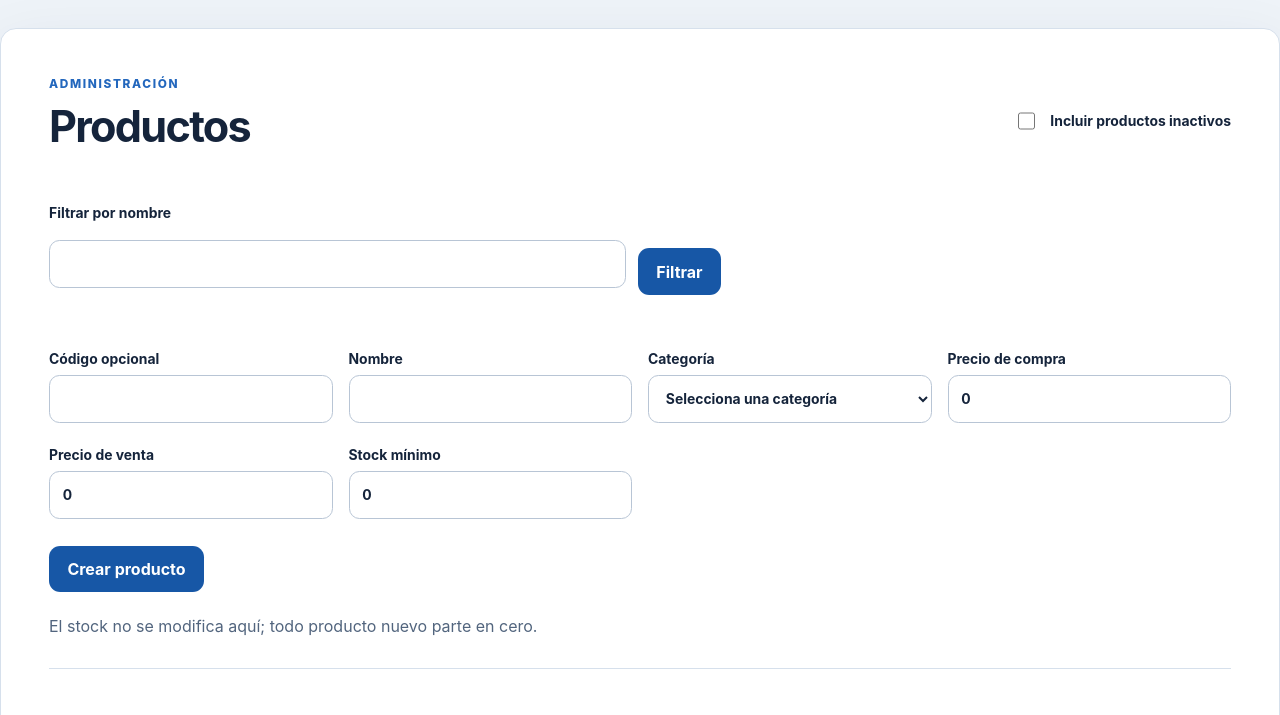
ProductAdmin › filters, includes inactive products and reports request failures
Type "café" into the field labelled "Filtrar por nombre". click: [338, 264]
box: left=49, top=240, right=626, bottom=288
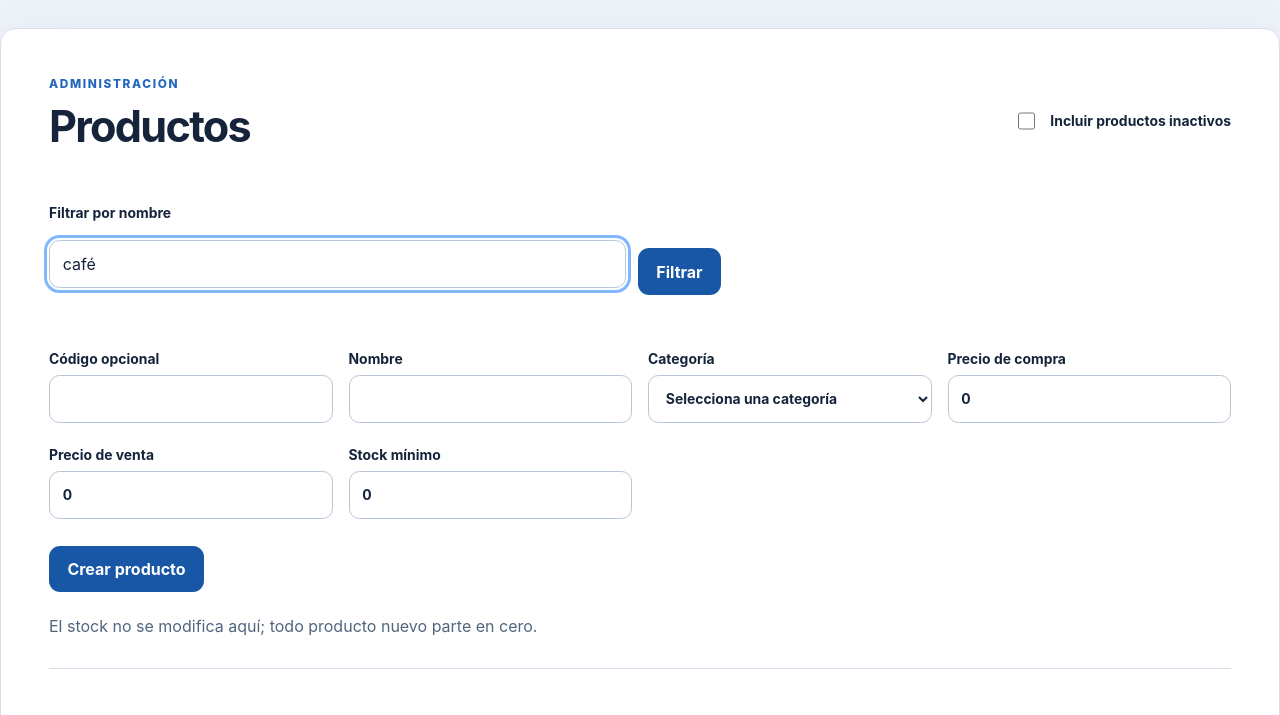
Click the button "Filtrar". click: [680, 272]
box: left=638, top=248, right=721, bottom=295
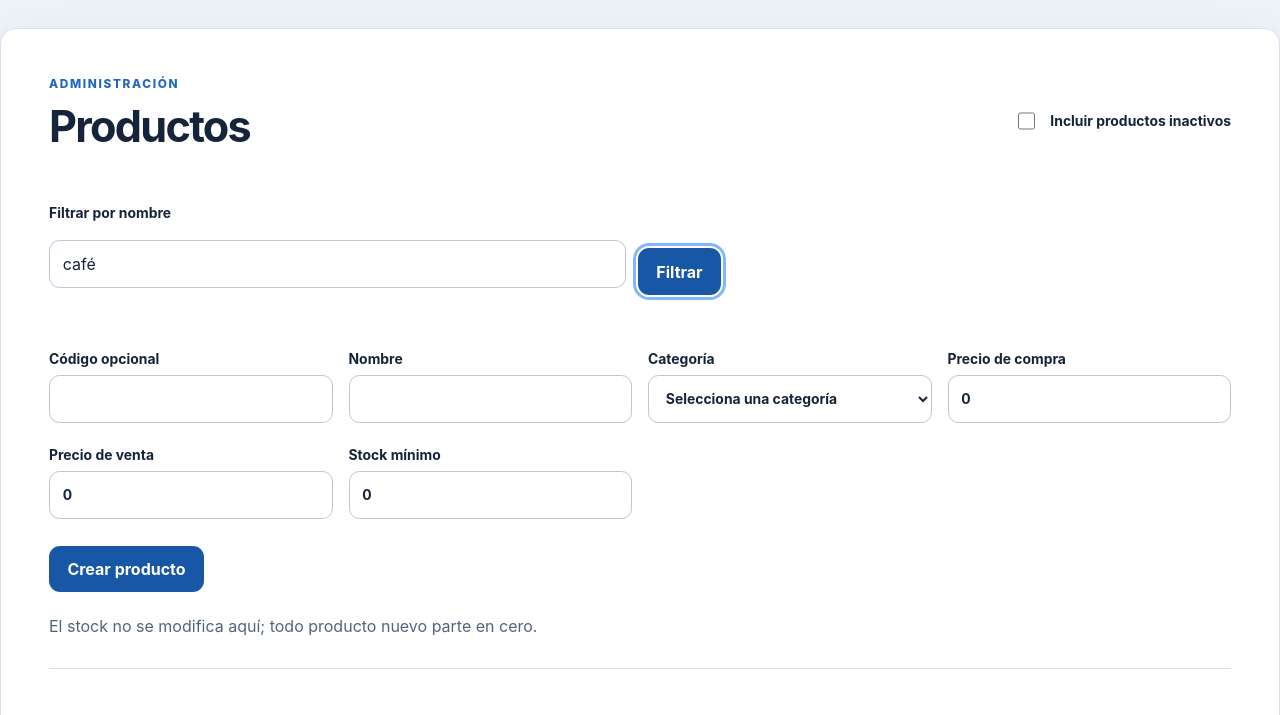
Click the checkbox labelled "Incluir productos inactivos". click: [1027, 121]
box: left=1018, top=112, right=1035, bottom=130
(page scrolled)
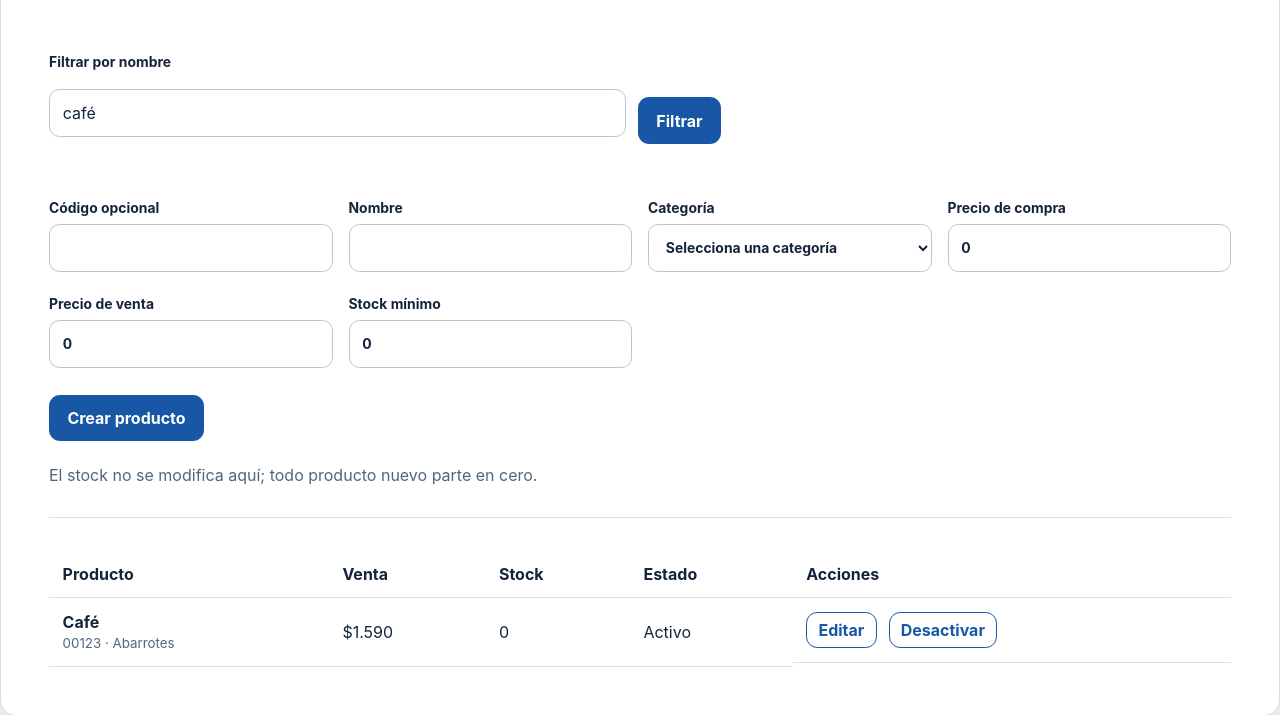
Click the button "Desactivar". click: [943, 630]
box: left=888, top=612, right=997, bottom=648
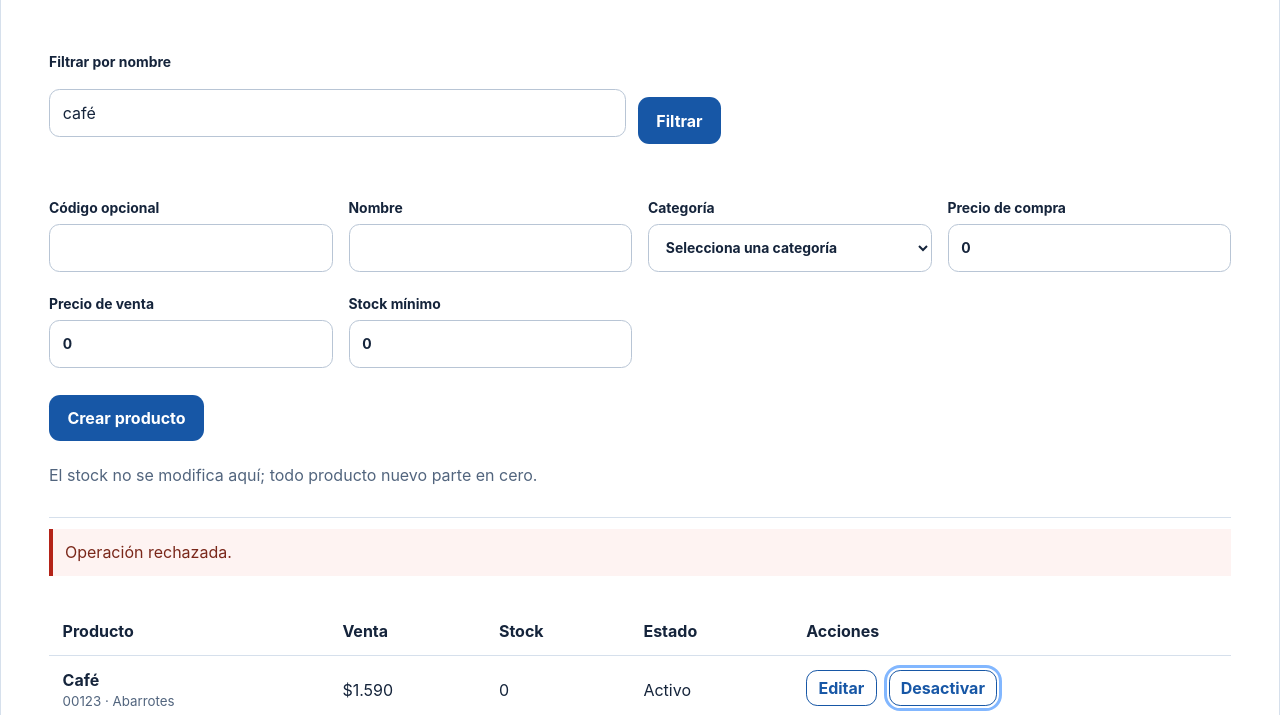
Now the message reads "Operación rechazada.", box left=65, top=542, right=232, bottom=562
